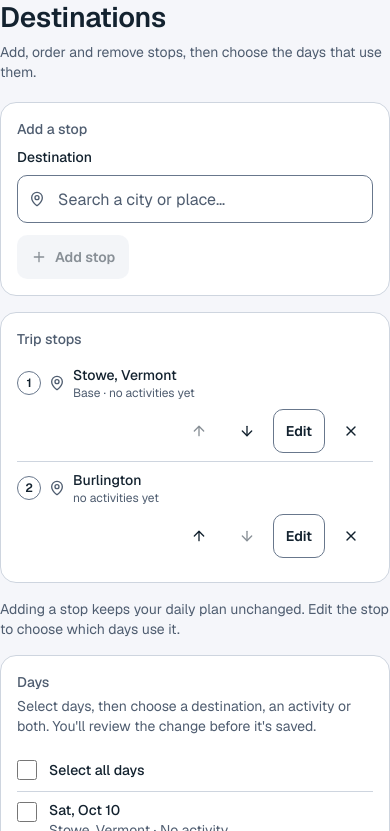
Test: Destinations after creation › saves the stop, then reviews the days picked for it, keeping them after a failed save
Expected: the text "Burlington" is shown, [73,471,141,489]
Click the button "Edit" below "Burlington".
click(299, 536)  # box [273,514,325,558]
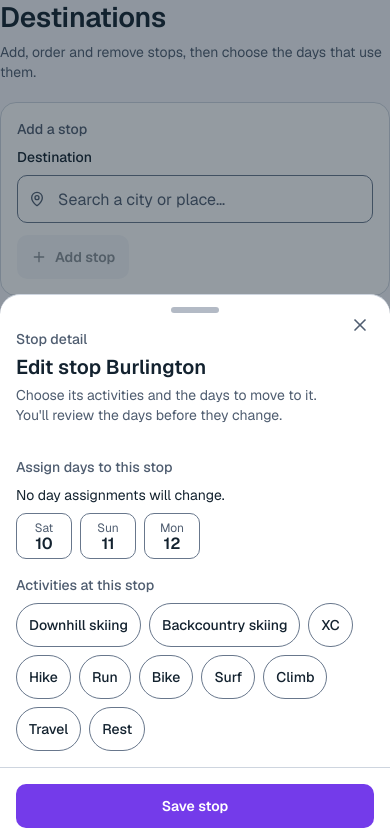
Expected: the button with aria-label "Sunday, October 11" is enabled
Expected: the text "No day assignments will change." is shown, [16,486,225,504]
Click the button with aria-label "Sunday, October 11, 2026".
click(108, 536)  # box [80,513,136,559]
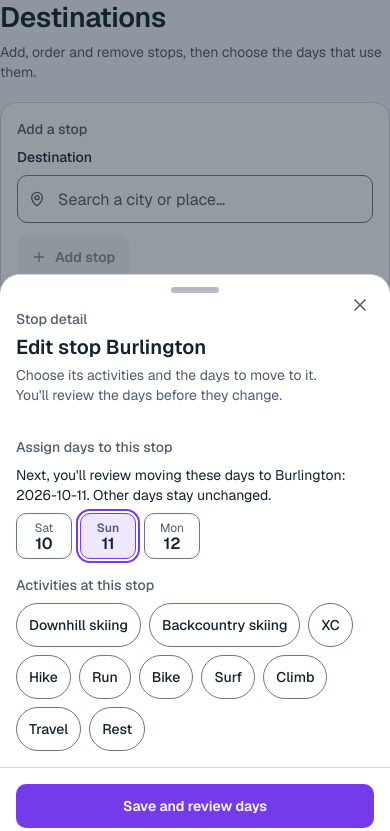
Expected: the text "Next, you'll review moving these days to Burlington: 2026-10-11. Other days stay unchanged." is shown, [16,466,346,504]
Click the button "Save and review days".
click(195, 806)  # box [16,784,374,828]
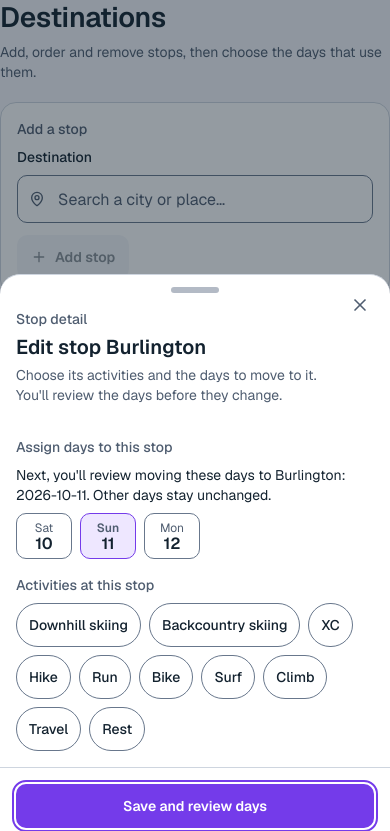
Expected: the button with aria-label "Sunday, October 11" is pressed, [80,513,136,559]
Click the button "Save and review days".
click(195, 806)  # box [16,784,374,828]
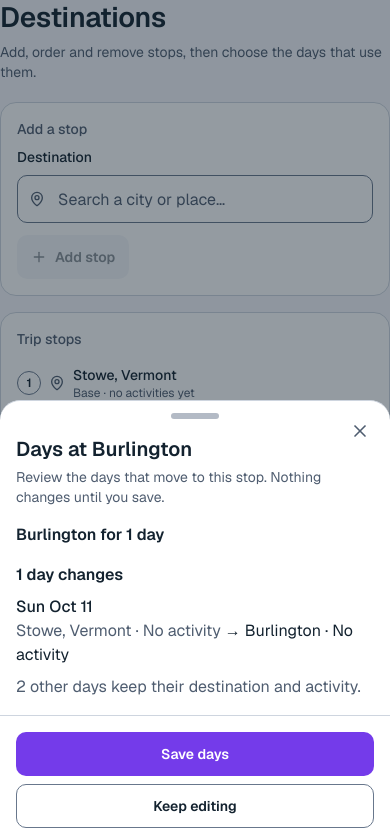
Expected: the text "Sun Oct 11" is shown, [16,596,93,617]
Expected: the text "Burlington · No activity" is shown, [16,620,353,665]
Click the button "Save days".
click(195, 754)  # box [16,732,374,776]
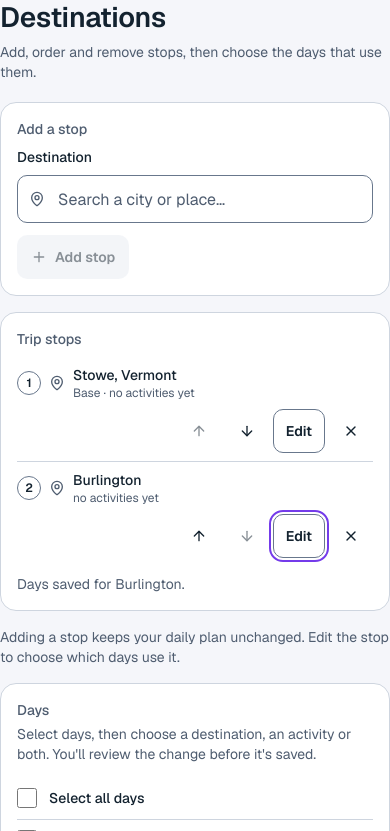
Expected: the text "Days saved for Burlington." is shown, [17,575,185,593]
